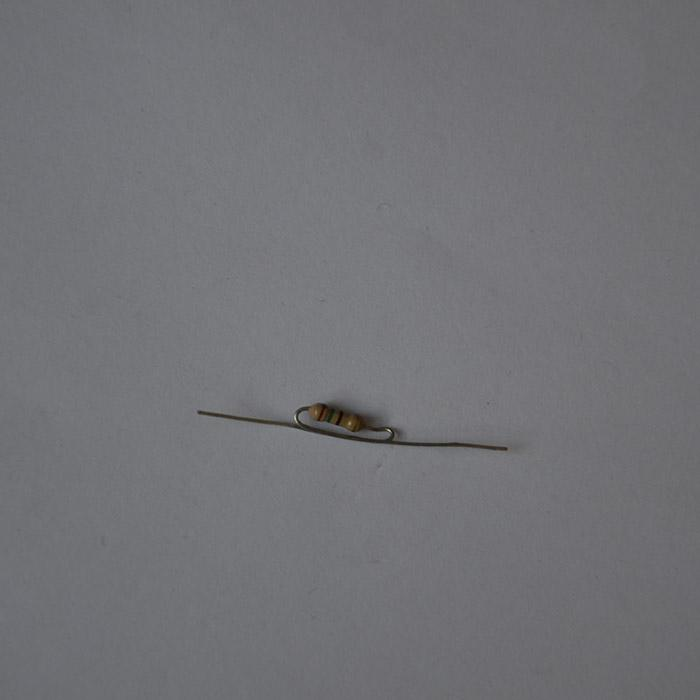resistor: (309, 402, 365, 432)
